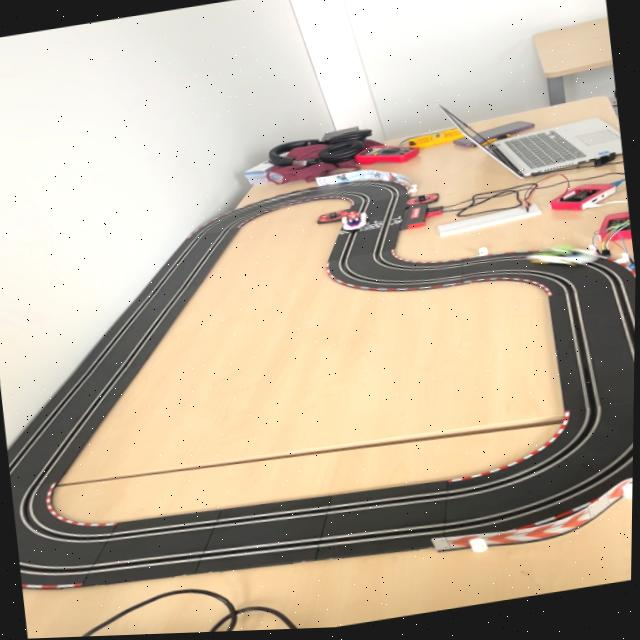mario: (340, 211, 372, 235)
yoshi: (524, 240, 605, 279)
